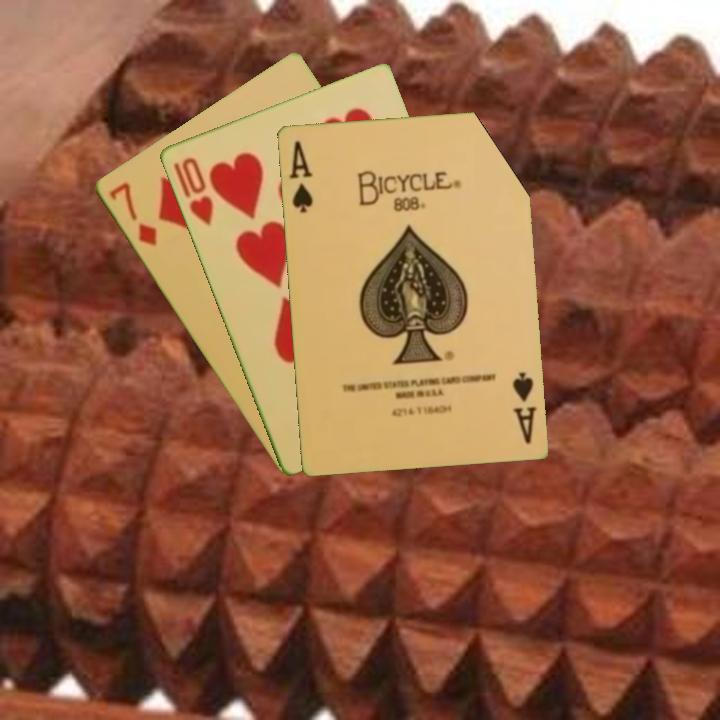10h: (177, 153, 216, 229)
7d: (105, 178, 160, 249)
As: (508, 368, 539, 446), (285, 137, 315, 215)
